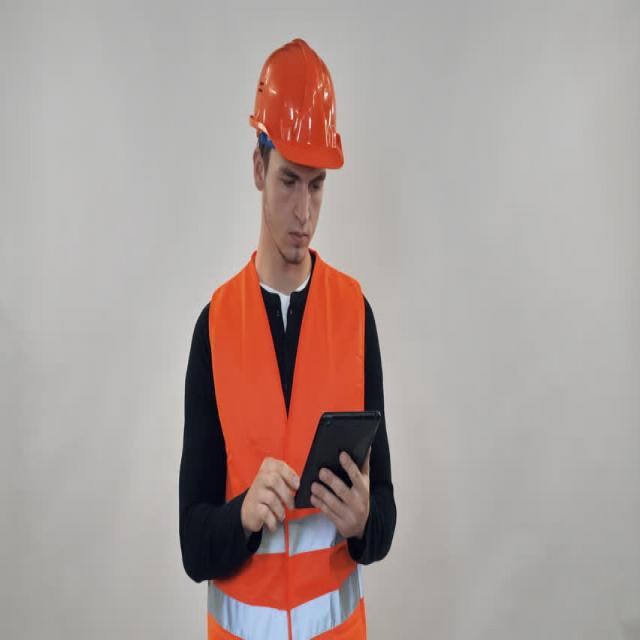Reflective-Jacket: (197, 258, 376, 640)
Safety-Helmet: (247, 35, 346, 176)
